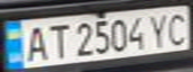0: (109, 16, 130, 53)
2: (72, 19, 96, 57)
4: (127, 12, 151, 51)
5: (90, 17, 112, 55)
A: (18, 22, 51, 63)
C: (163, 9, 193, 46)
T: (42, 21, 69, 60)
Y: (145, 10, 172, 48)
